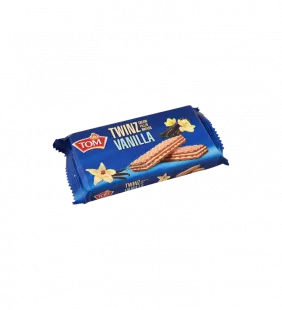TWINZ: (45, 100, 235, 212)
